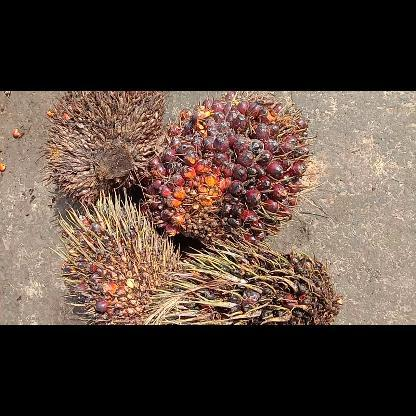Kurang masak: (133, 238, 341, 324)
TBS abnormal: (56, 194, 180, 324), (41, 91, 166, 200)
Terlalu masak: (143, 90, 309, 250)
